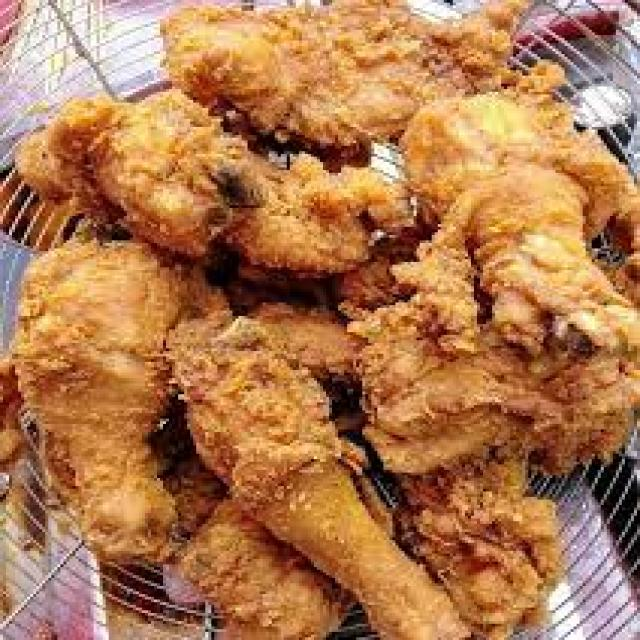Frango: (181, 343, 423, 640), (18, 220, 174, 566), (433, 88, 623, 363), (172, 4, 525, 150), (65, 116, 378, 267), (361, 421, 550, 631), (192, 497, 324, 640), (230, 288, 376, 398)
